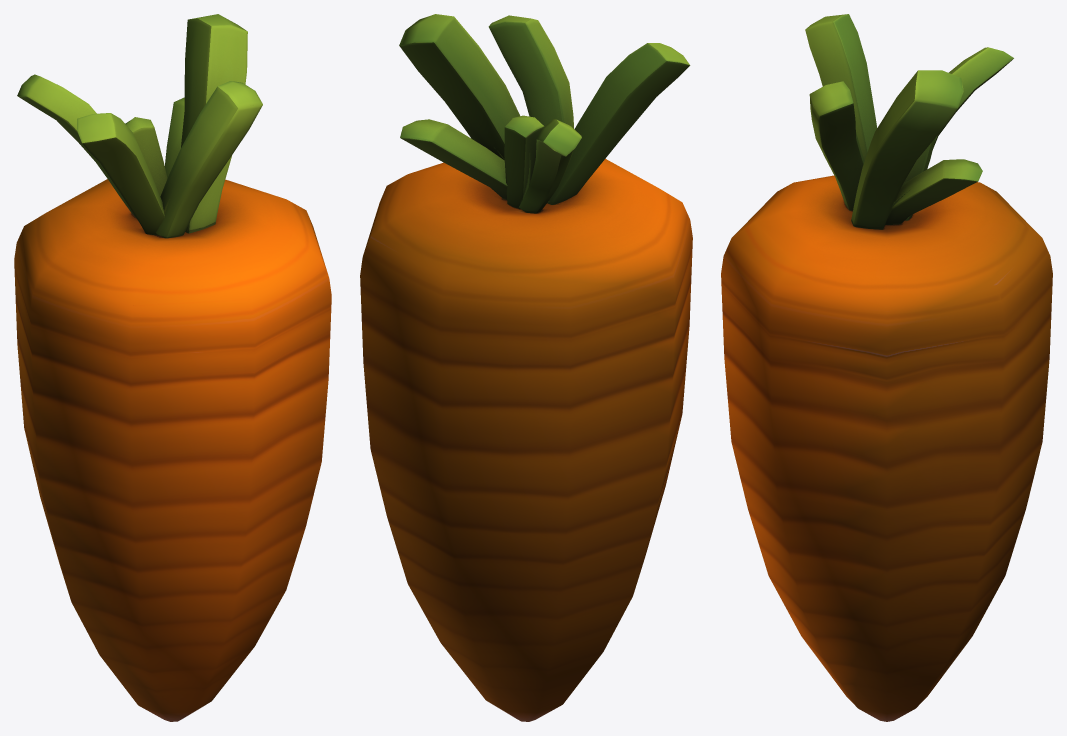
File: zanahoria.obj
3 renders of one model, left to right at view 1: azimuth 30°, elevation 25°; view 2: azimuth 150°, elevation 25°; view 3: azimuth 270°, elevation 25°, orthographic. The views are drawn at different scales.
Parts seen in each view (by area): view 1: Carrot; view 2: Carrot; view 3: Carrot.
Part boxes in pixels (x1=…): Carrot: x1=14, y1=14, x2=331, y2=721; Carrot: x1=360, y1=14, x2=692, y2=721; Carrot: x1=721, y1=14, x2=1052, y2=721.
Bounding box in the file's own units: 0.6311 × 1.41 × 0.6311.
Materials: 1 (1 with a texture image).
